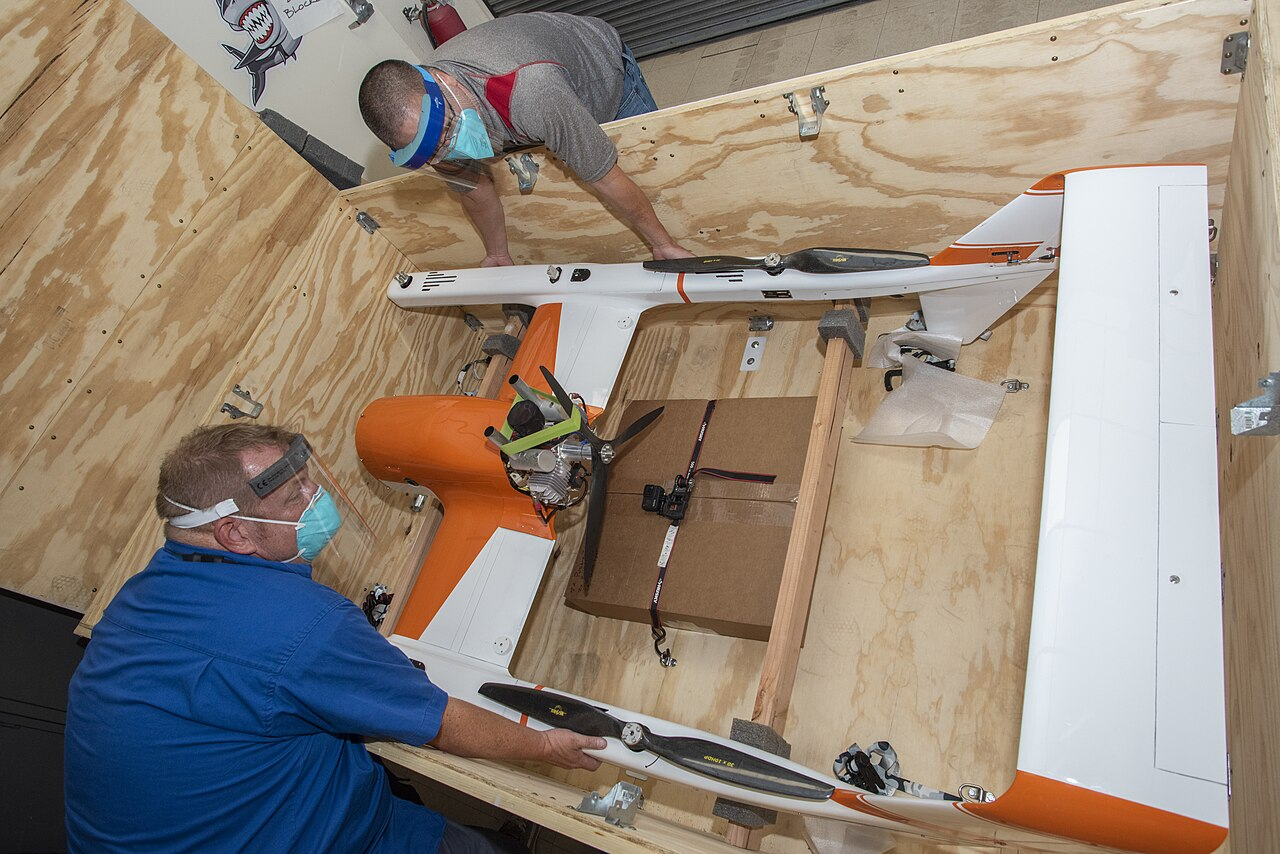drone: (351, 158, 1235, 853)
